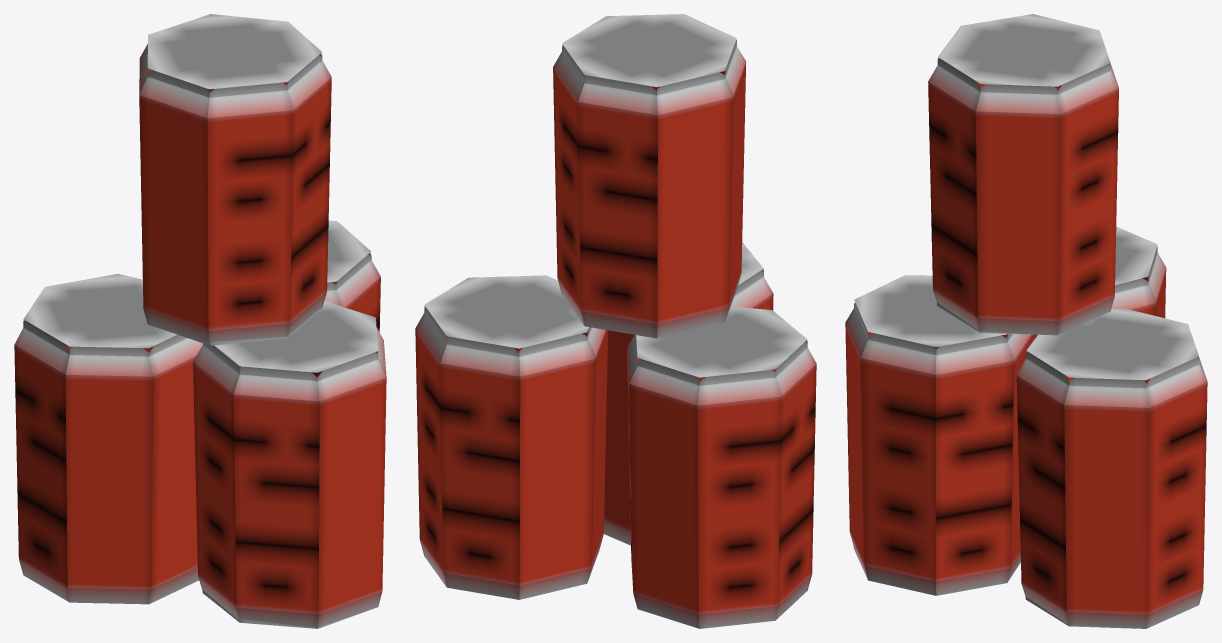
File: RationCansFour.obj
The picture shows the model from 3 angles, left to right: view 1: azimuth 30°, elevation 25°; view 2: azimuth 150°, elevation 25°; view 3: azimuth 270°, elevation 25°; orthographic projection. The views are drawn at different scales.
Visible parts, largest first — view 1: Cans; view 2: Cans; view 3: Cans.
Part boxes in pixels (bbox=[...]): Cans: bbox=[14, 14, 386, 628]; Cans: bbox=[415, 14, 816, 628]; Cans: bbox=[845, 14, 1207, 628].
Size of the model in its own units: 0.1389 by 0.1937 by 0.1279.
1 material, 1 textured.
